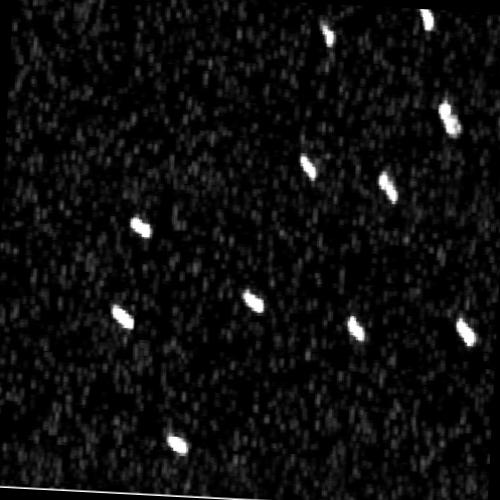ship: (437, 100, 463, 139), (240, 287, 265, 316), (455, 315, 477, 347), (378, 169, 398, 203), (298, 151, 318, 184), (129, 214, 153, 241), (111, 304, 134, 331), (345, 315, 367, 342), (166, 434, 189, 458), (320, 22, 336, 48), (420, 9, 435, 30)
